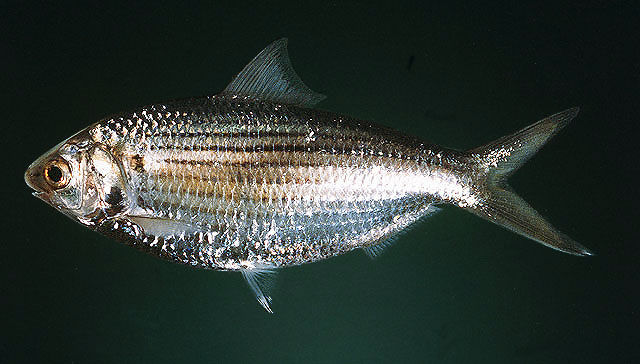fish: (25, 36, 595, 313)
